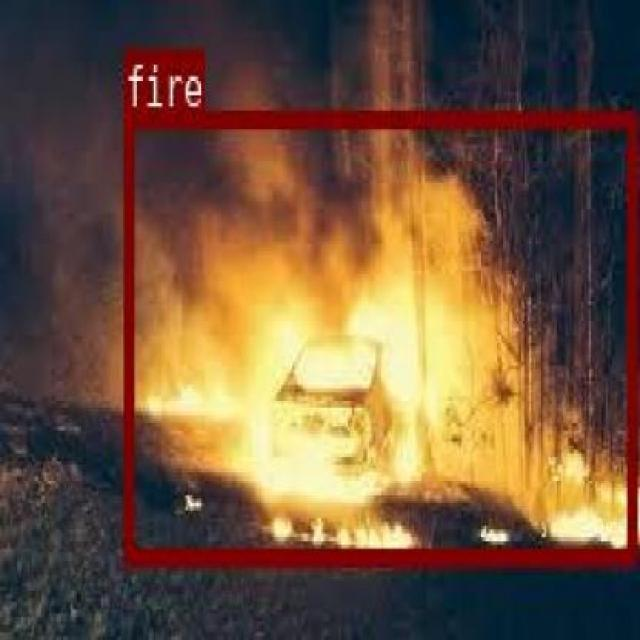Fire: (123, 108, 634, 564)
